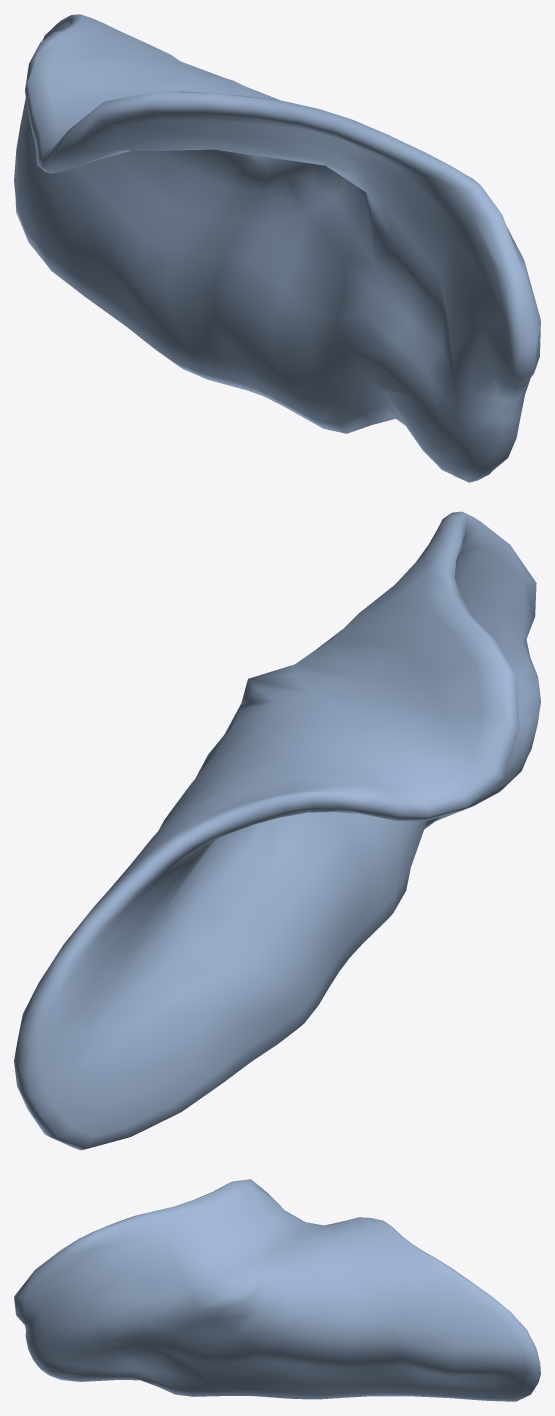
Rendered from junRoadcover4.fbx.
The picture shows the model from 3 angles, top to bottom: view 1: azimuth 30°, elevation 25°; view 2: azimuth 150°, elevation 25°; view 3: azimuth 270°, elevation 25°; orthographic projection. The views are drawn at different scales.
Parts seen in each view (by area): view 1: cover4_LOD0; view 2: cover4_LOD0; view 3: cover4_LOD0.
Boxes of the visible parts, bbox=[...] form: cover4_LOD0: bbox=[14, 14, 540, 482]; cover4_LOD0: bbox=[14, 511, 540, 1150]; cover4_LOD0: bbox=[14, 1179, 540, 1401].
Size of the model in its own units: 564 by 644 by 1611.
